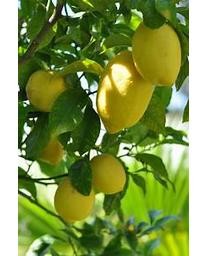lemon: (97, 48, 155, 134), (131, 18, 183, 87), (25, 68, 68, 112), (54, 182, 95, 220), (88, 154, 126, 193)
